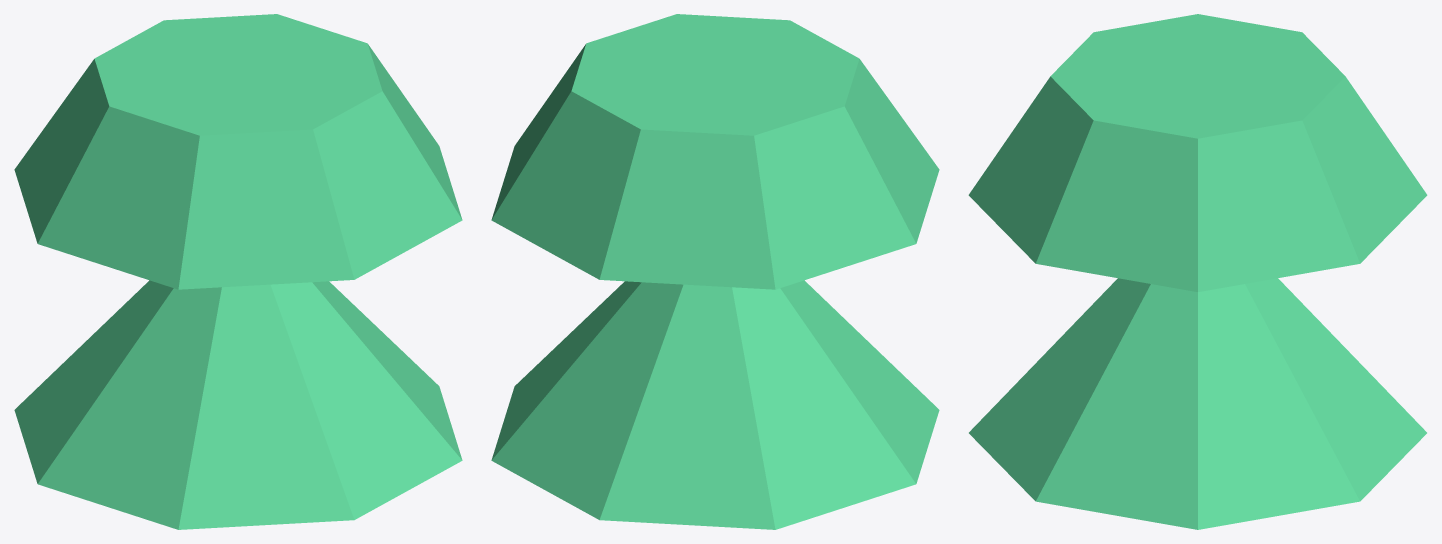
File: progress_gem.glb
The picture shows the model from 3 angles, left to right: view 1: azimuth 30°, elevation 25°; view 2: azimuth 150°, elevation 25°; view 3: azimuth 270°, elevation 25°; orthographic projection.
Visible parts, largest first — view 1: RewardGem; view 2: RewardGem; view 3: RewardGem.
Boxes of the visible parts, <box> form: RewardGem: <box>14,14,462,529</box>; RewardGem: <box>491,14,939,529</box>; RewardGem: <box>968,14,1427,529</box>.
Size of the model in its own units: 1.4 by 1.2 by 1.4.
